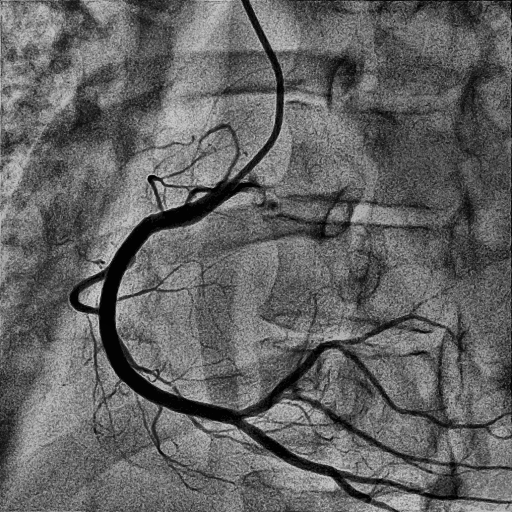pborca: (238, 314, 453, 419)
pda: (239, 420, 487, 502)
rca: (99, 179, 243, 428)
